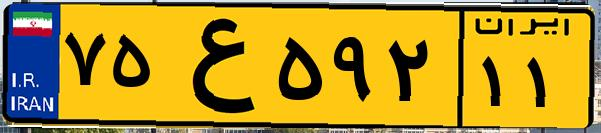1: (475, 38, 525, 113), (525, 38, 570, 115)
2: (385, 28, 445, 110)
5: (270, 28, 330, 110), (110, 28, 158, 98)
7: (57, 26, 110, 100)
9: (330, 28, 385, 110)
ع: (158, 12, 270, 120)
